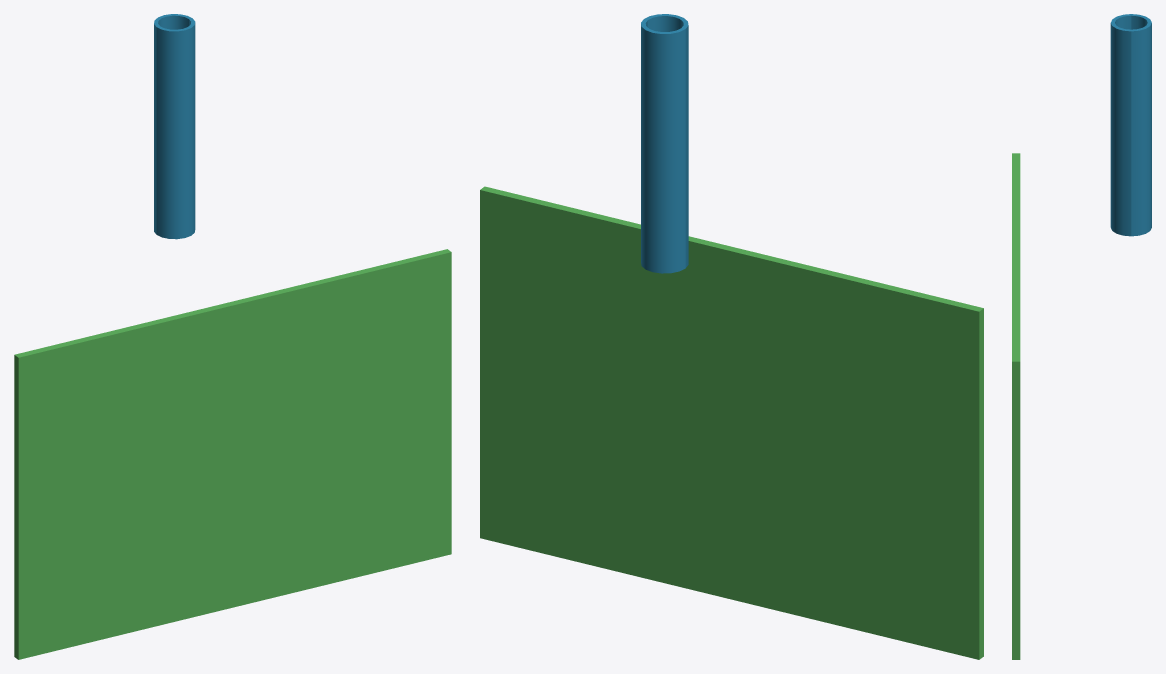
The model's file is microfiltration_system_pressure.glb.
3 renders of one model, left to right at view 1: azimuth 30°, elevation 25°; view 2: azimuth 150°, elevation 25°; view 3: azimuth 270°, elevation 25°, orthographic. The views are drawn at different scales.
Visible parts, largest first — view 1: press__front, press__back; view 2: press__front, press__back; view 3: press__front, press__back.
Boxes of the visible parts, x1,y1,x2,y2 form: press__front: (14, 18, 451, 659); press__back: (154, 14, 191, 234); press__front: (480, 14, 983, 659); press__back: (641, 19, 685, 273); press__front: (1012, 14, 1131, 659); press__back: (1131, 14, 1151, 236).
Bounding box in the file's own units: 1.2 × 1.43 × 0.34.
